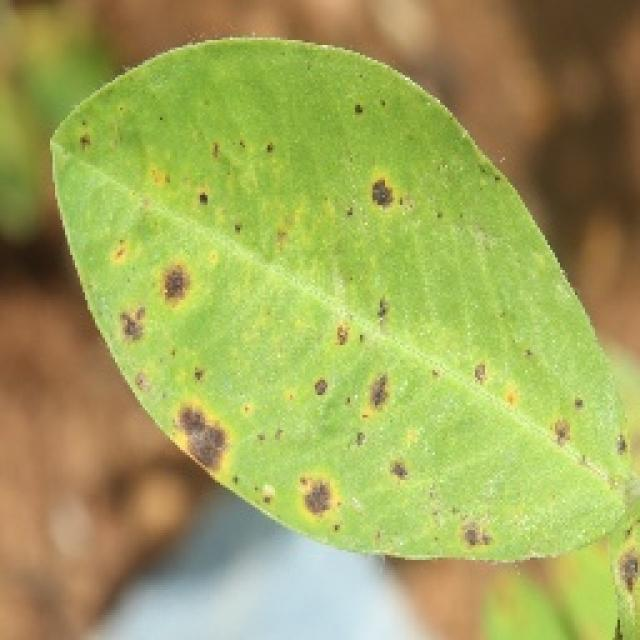Yellowish: (37, 97, 640, 577)
